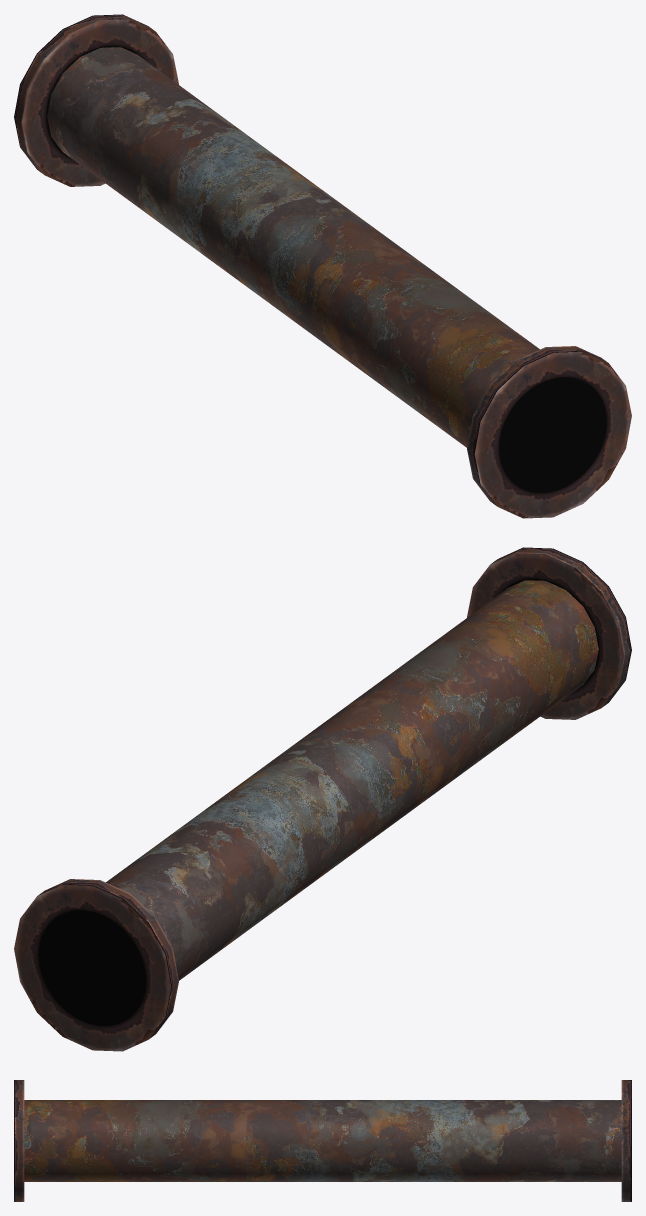
The model's file is pipe03_300cm.fbx.
3 renders of one model, top to bottom at view 1: azimuth 30°, elevation 25°; view 2: azimuth 150°, elevation 25°; view 3: azimuth 270°, elevation 25°, orthographic. The views are drawn at different scales.
Parts seen in each view (by area): view 1: pipe03_300cm; view 2: pipe03_300cm; view 3: pipe03_300cm.
Boxes of the visible parts, x1,y1,x2,y2 form: pipe03_300cm: [14, 14, 631, 518]; pipe03_300cm: [14, 547, 631, 1051]; pipe03_300cm: [14, 1080, 631, 1201].
Bounding box in the file's own units: 59.2 × 59.2 × 300.
